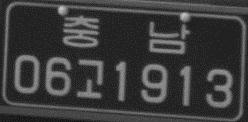0: (13, 54, 40, 94)
1: (174, 65, 200, 107), (108, 60, 134, 101)
3: (205, 68, 233, 108)
6: (44, 57, 71, 97)
9: (140, 63, 168, 104)
고: (75, 58, 104, 99)
충남_D: (62, 15, 189, 55)
